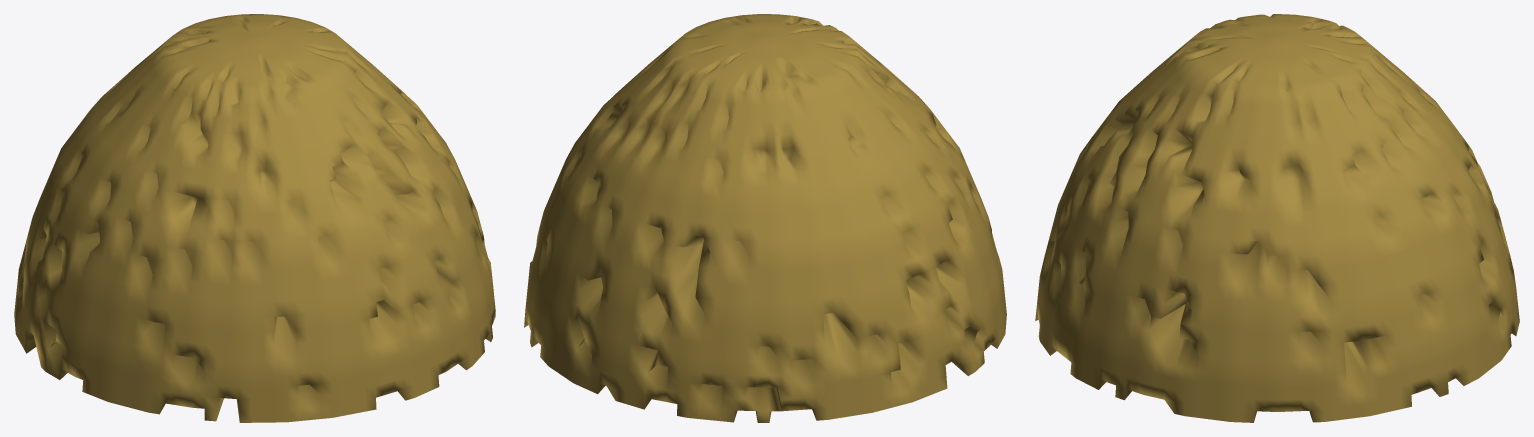
File: spawner.fbx
3 renders of one model, left to right at view 1: azimuth 30°, elevation 25°; view 2: azimuth 150°, elevation 25°; view 3: azimuth 270°, elevation 25°, orthographic.
Visible parts, largest first — view 1: Sphere; view 2: Sphere; view 3: Sphere.
Part boxes in pixels (bbox=[...]): Sphere: bbox=[14, 14, 495, 422]; Sphere: bbox=[524, 14, 1006, 422]; Sphere: bbox=[1035, 14, 1519, 422].
Size of the model in its own units: 309 by 198 by 309.
